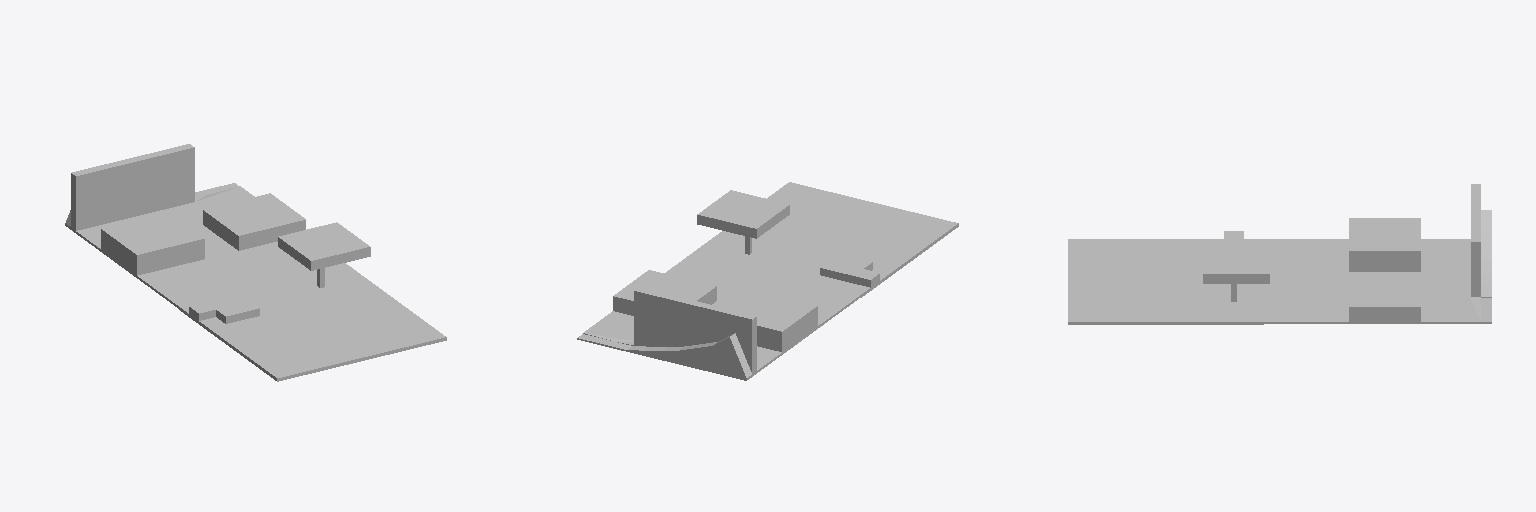
Rendered from test_topo5.obj.
3 renders of one model, left to right at view 1: azimuth 30°, elevation 25°; view 2: azimuth 150°, elevation 25°; view 3: azimuth 270°, elevation 25°, orthographic.
Parts seen in each view (by area): view 1: Bataille; view 2: Bataille; view 3: Bataille.
Boxes of the visible parts, x1=… form: Bataille: x1=65, y1=144, x2=446, y2=381; Bataille: x1=577, y1=182, x2=958, y2=380; Bataille: x1=1068, y1=184, x2=1491, y2=324.
Size of the model in its own units: 42.15 by 14.5 by 91.37.